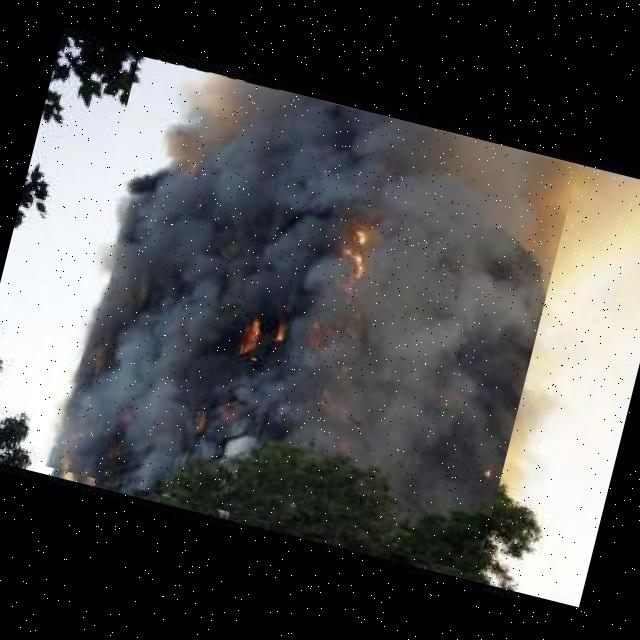fire: (37, 56, 578, 574)
